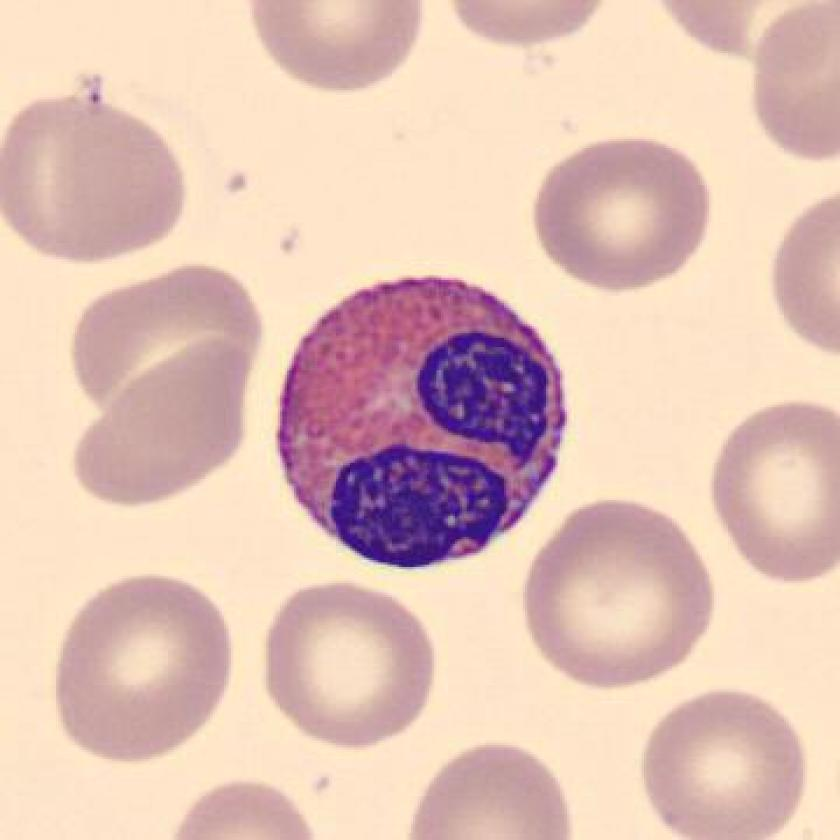eosinophil: (265, 263, 580, 580)
